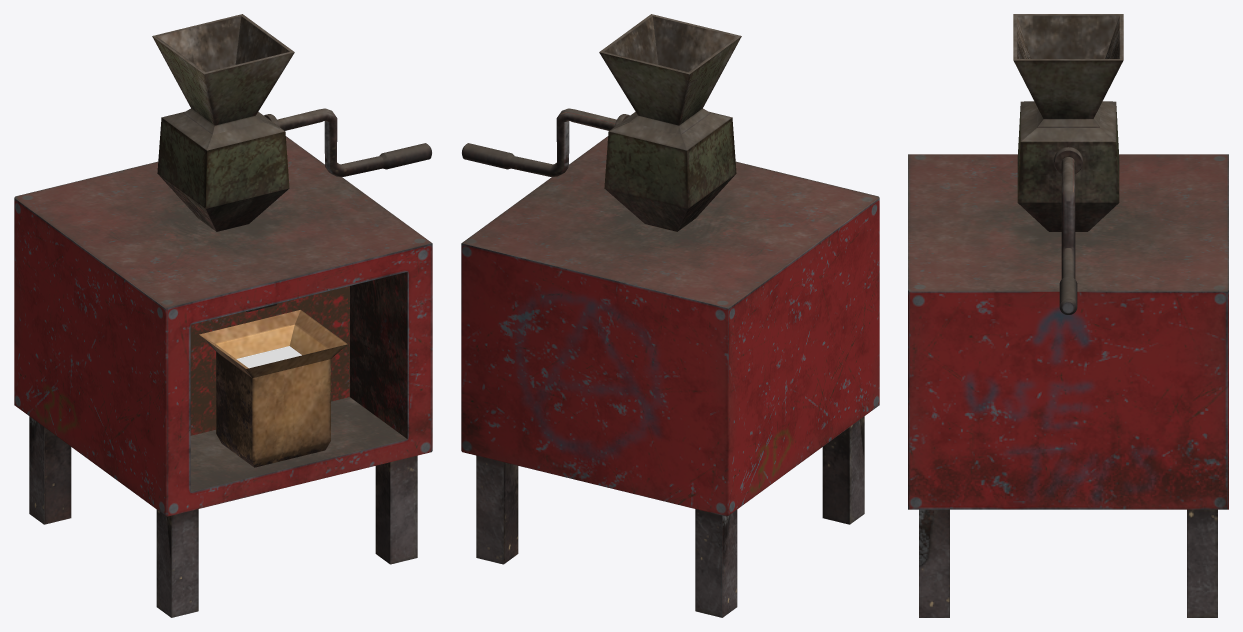
Rendered from flour_grinder.glb.
The picture shows the model from 3 angles, left to right: view 1: azimuth 30°, elevation 25°; view 2: azimuth 150°, elevation 25°; view 3: azimuth 270°, elevation 25°; orthographic projection. The views are drawn at different scales.
Visible parts, largest first — view 1: Cylinder; view 2: Cylinder; view 3: Cylinder.
Part boxes in pixels (<box>): Cylinder: <box>14,14,432,617</box>; Cylinder: <box>461,14,879,617</box>; Cylinder: <box>908,14,1228,617</box>.
Bounding box in the file's own units: 84.17 × 116 × 65.41.
Materials: 1 (1 with a texture image).
